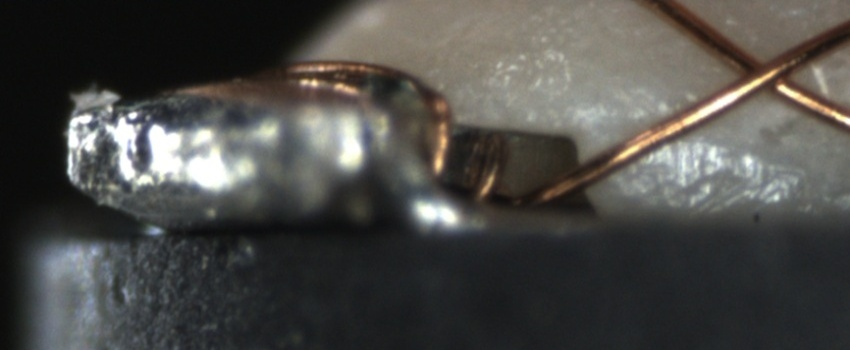CL: (717, 35, 818, 109)
DL: (597, 105, 736, 157)
TE: (286, 52, 507, 204)
